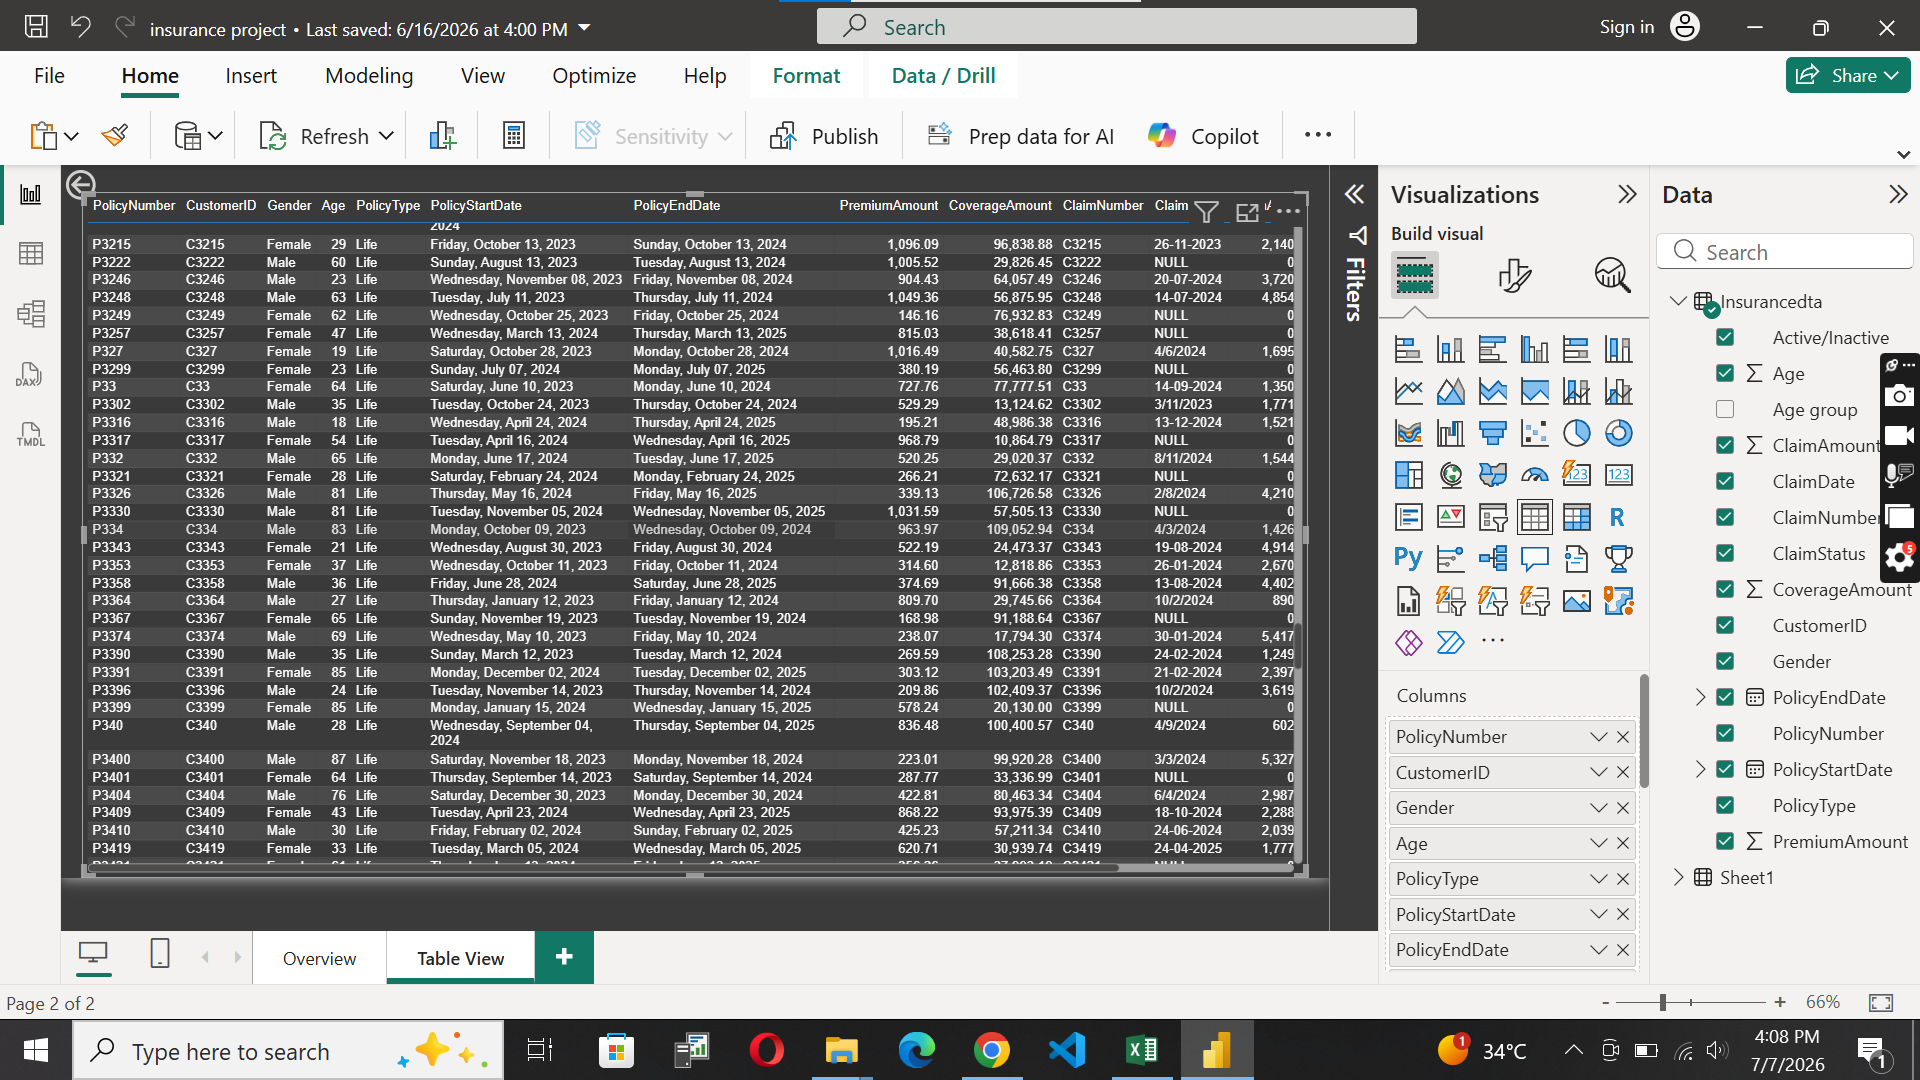

Layout of this report page (visuals, bound fields, positions):
{"tool":"powerbi","page":{"name":"Page 2","canvas":[1280,720],"ordinal":1},"visuals":[{"type":"tableEx","fields":{"Values":["Insurancedta.PolicyNumber","Insurancedta.CustomerID","Insurancedta.Gender","Insurancedta.Age","Insurancedta.PolicyType","Insurancedta.PolicyStartDate","Insurancedta.PolicyEndDate","Insurancedta.PremiumAmount","Insurancedta.CoverageAmount","Insurancedta.ClaimNumber","Insurancedta.ClaimDate","Insurancedta.ClaimAmount"]},"box":[21.2,27.3,1237.1,692],"z":0},{"type":"actionButton","box":[0,0,100,40],"z":1000}]}

Visuals, with their boxes on the page's 1280x720 design canvas (x1, y1, x2, y2). These are canvas units, not pixel positions in the 1920x1080 screenshot, which may show the page scaled, cropped or inside an application window:
tableEx - Insurancedta.PolicyNumber x Insurancedta.CustomerID: crop(21, 27, 1258, 719)
actionButton: crop(0, 0, 100, 40)
